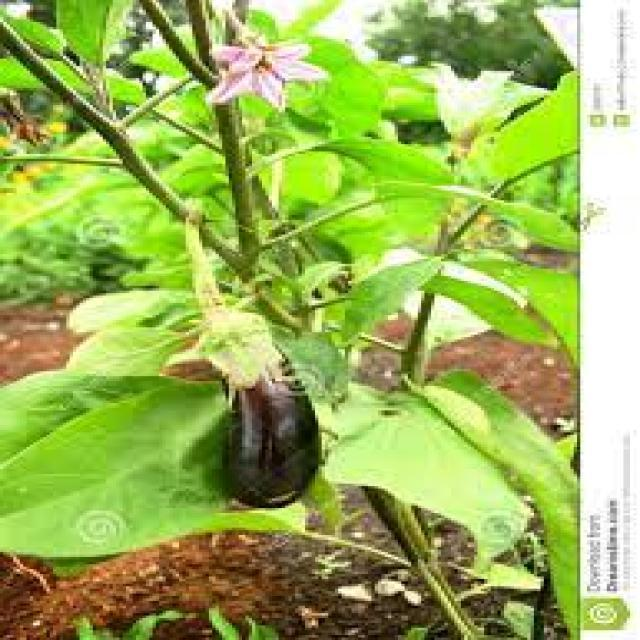Eggplant: (186, 258, 325, 506)
